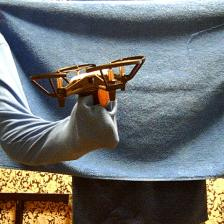drone: (30, 55, 143, 103)
